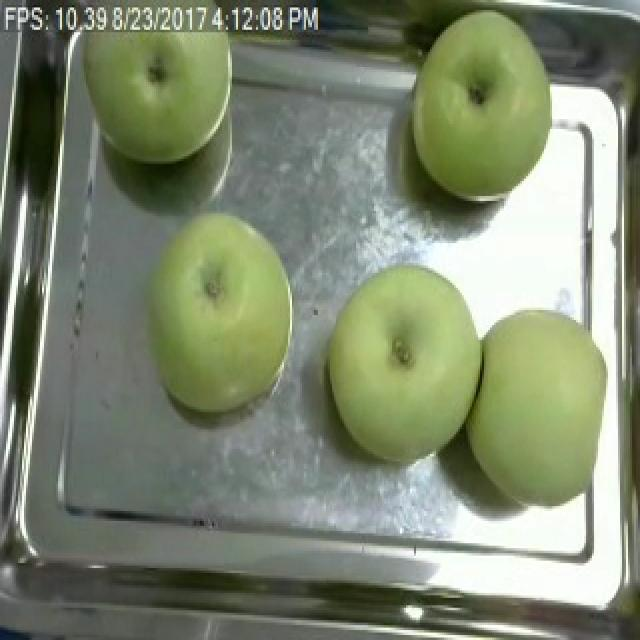50-_ripeness: (136, 206, 303, 427), (324, 250, 482, 462), (72, 0, 260, 175), (478, 288, 604, 544), (402, 18, 552, 206)
